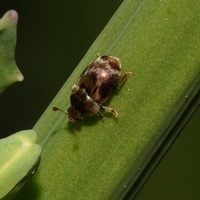insect: (52, 54, 133, 129)
